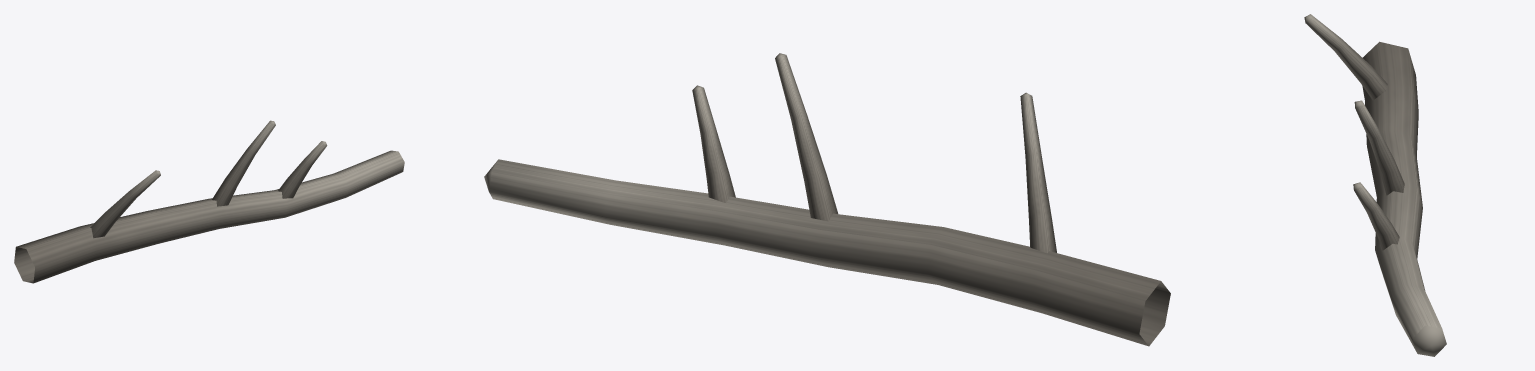
File: wolflichen.glb
The picture shows the model from 3 angles, left to right: view 1: azimuth 30°, elevation 25°; view 2: azimuth 150°, elevation 25°; view 3: azimuth 270°, elevation 25°; orthographic projection. The views are drawn at different scales.
Visible parts, largest first — view 1: wolflichen; view 2: wolflichen; view 3: wolflichen.
Boxes of the visible parts, box(x1,y1,x2,y2) form: wolflichen: box(14, 120, 404, 283); wolflichen: box(484, 53, 1170, 346); wolflichen: box(1304, 14, 1446, 356).
Bounding box in the file's own units: 0.7651 × 0.3324 × 0.3065.
Materials: 1 (1 with a texture image).
